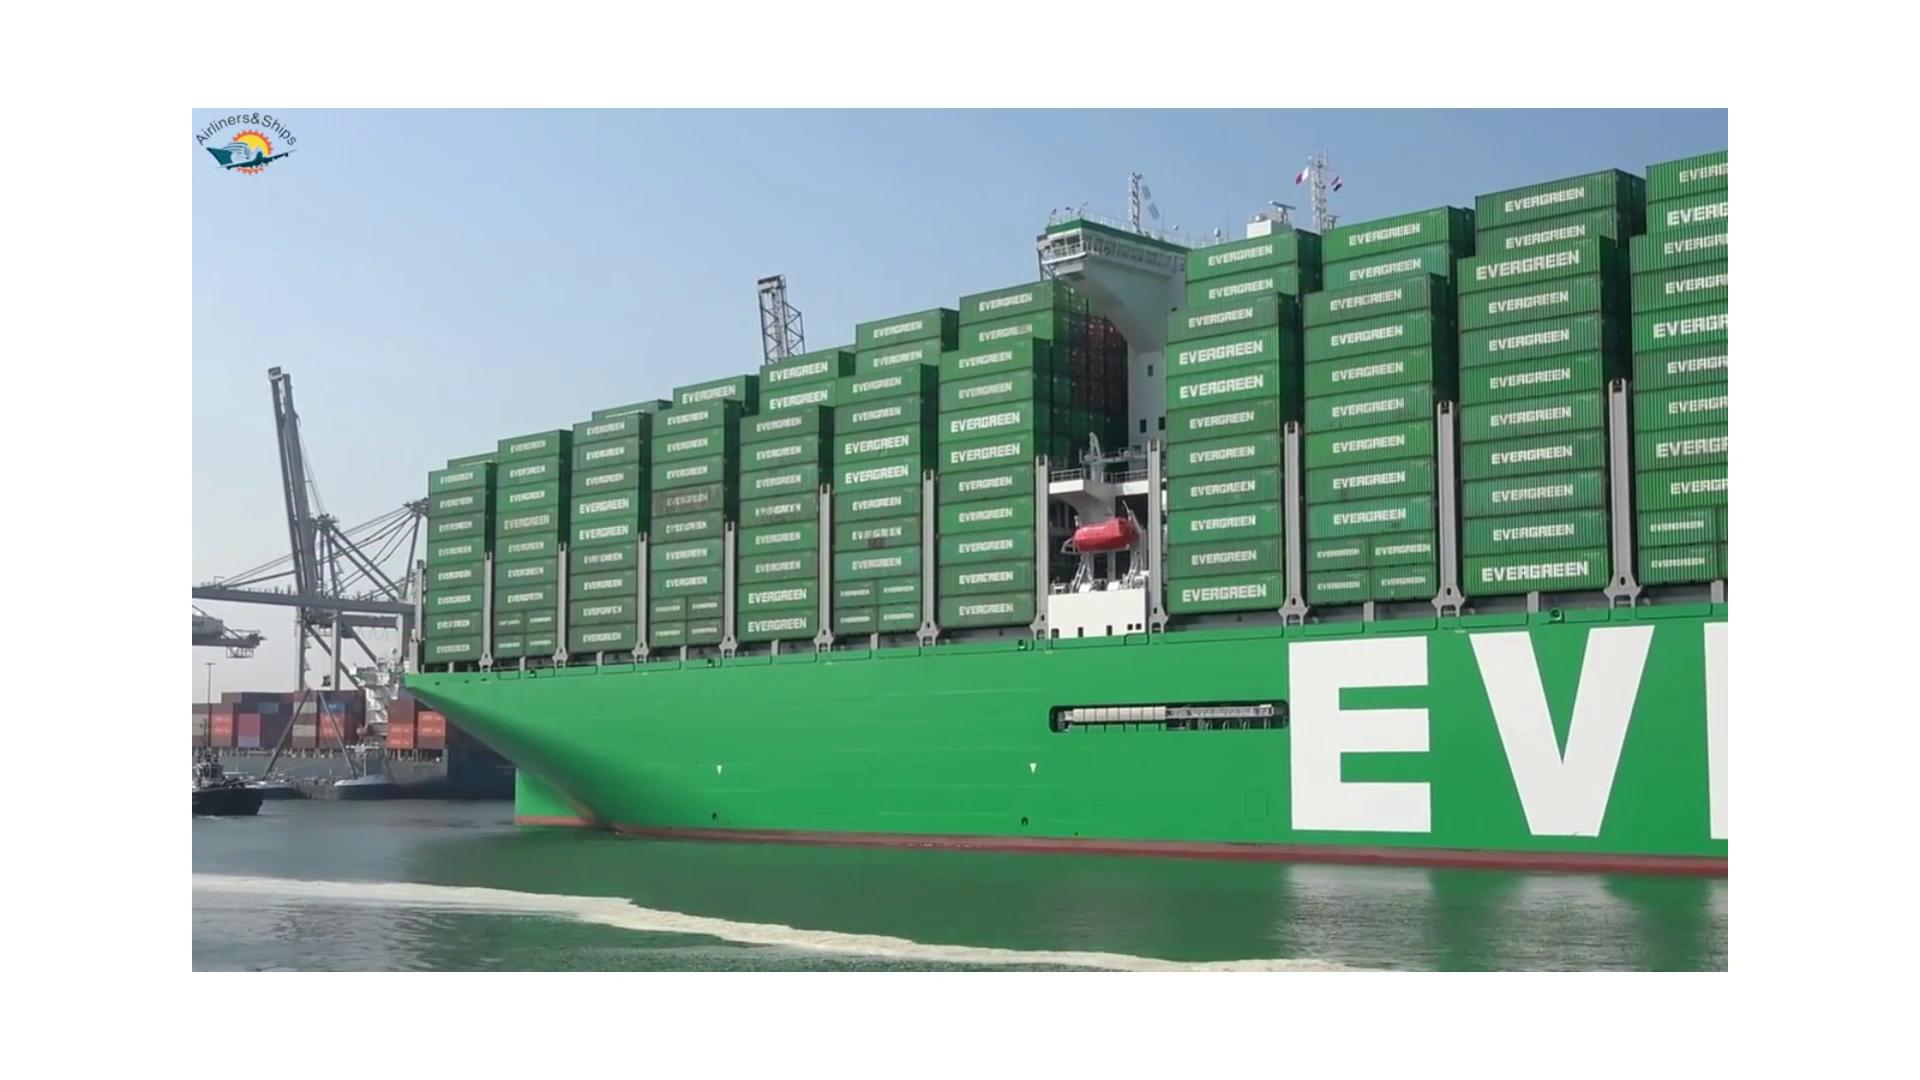OCR: (1250, 616, 1734, 873)
